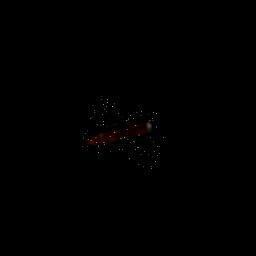boat: (80, 116, 167, 153), (116, 110, 129, 122)
